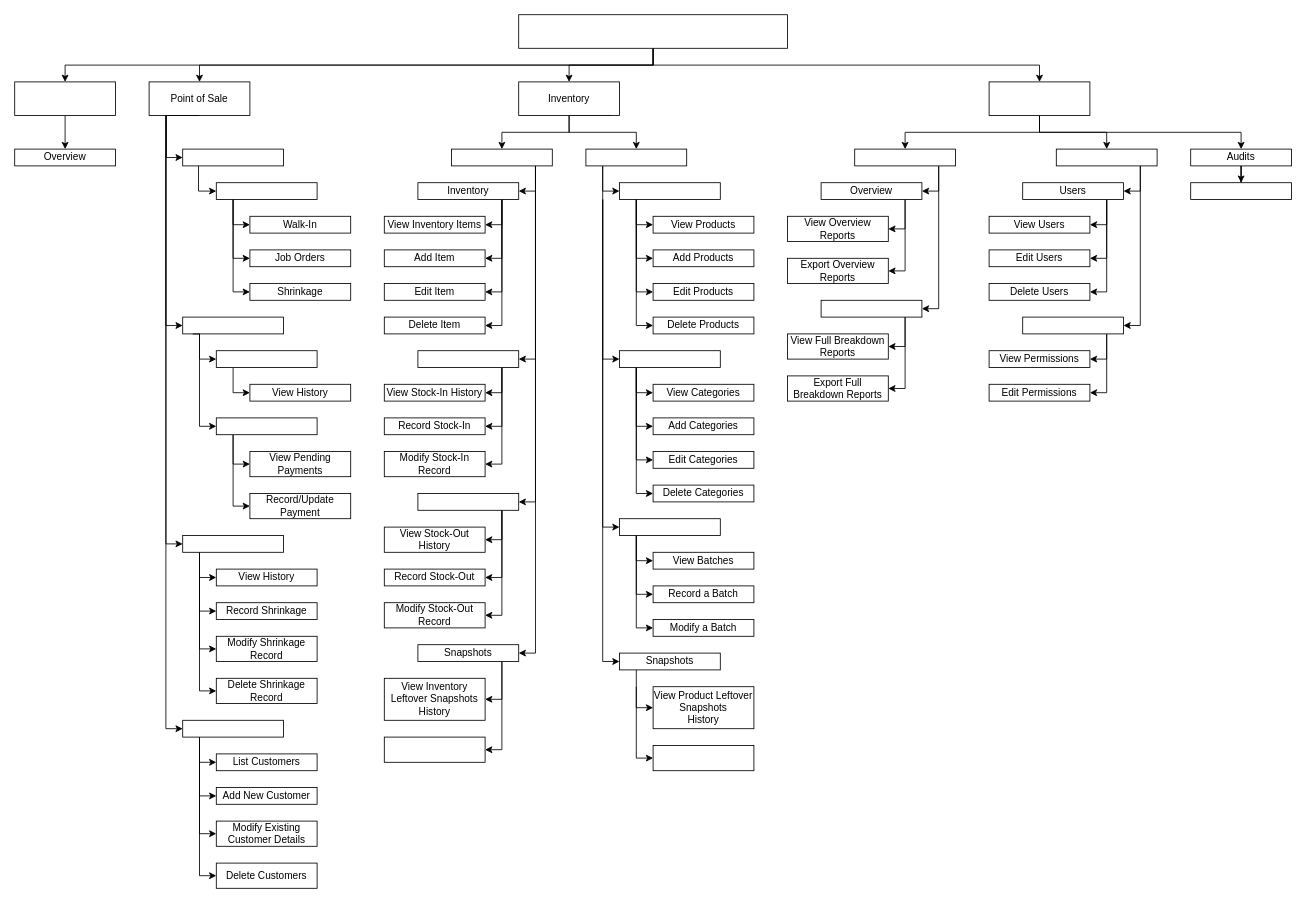
The diagram is 1306 pixels wide and 903 high, and some of its shapes have lost their labels. Each missing label, with the box of its shape:
Administration: (988, 81, 1090, 116)
Cashier: (182, 148, 284, 166)
Categories: (619, 350, 720, 368)
Customers: (182, 719, 284, 737)
Dashboard: (14, 81, 116, 116)
Full Breakdown: (820, 299, 922, 317)
Inventory Levels: (451, 148, 552, 166)
Momma's Bakeshop POS and Inventory System: (518, 14, 788, 48)
Pending Payments: (215, 417, 317, 435)
Permissions: (1022, 316, 1124, 334)
Process Sales: (215, 182, 317, 200)
Production Batches: (619, 518, 720, 536)
Products: (619, 182, 720, 200)
Products & Batches: (585, 148, 687, 166)
Record Inventory Leftover Snapshots: (383, 736, 485, 762)
Record Product Leftover Snapshots: (652, 745, 754, 771)
Reports: (854, 148, 956, 166)
Sale History: (182, 316, 284, 334)
Sales: (215, 350, 317, 368)
Shrinkage History: (182, 535, 284, 552)
Stock-In: (417, 350, 519, 368)
Stock-Out: (417, 493, 519, 510)
User Management: (1055, 148, 1157, 166)
View Audits: (1190, 182, 1292, 200)
